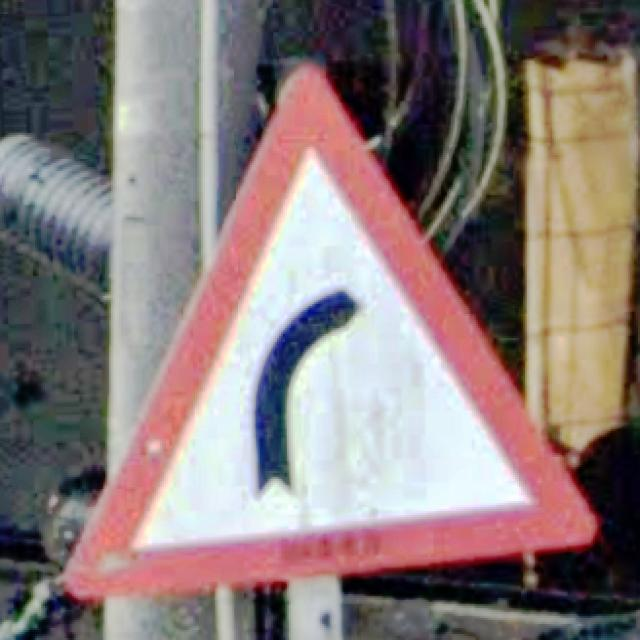rightbend: (66, 66, 597, 602)
